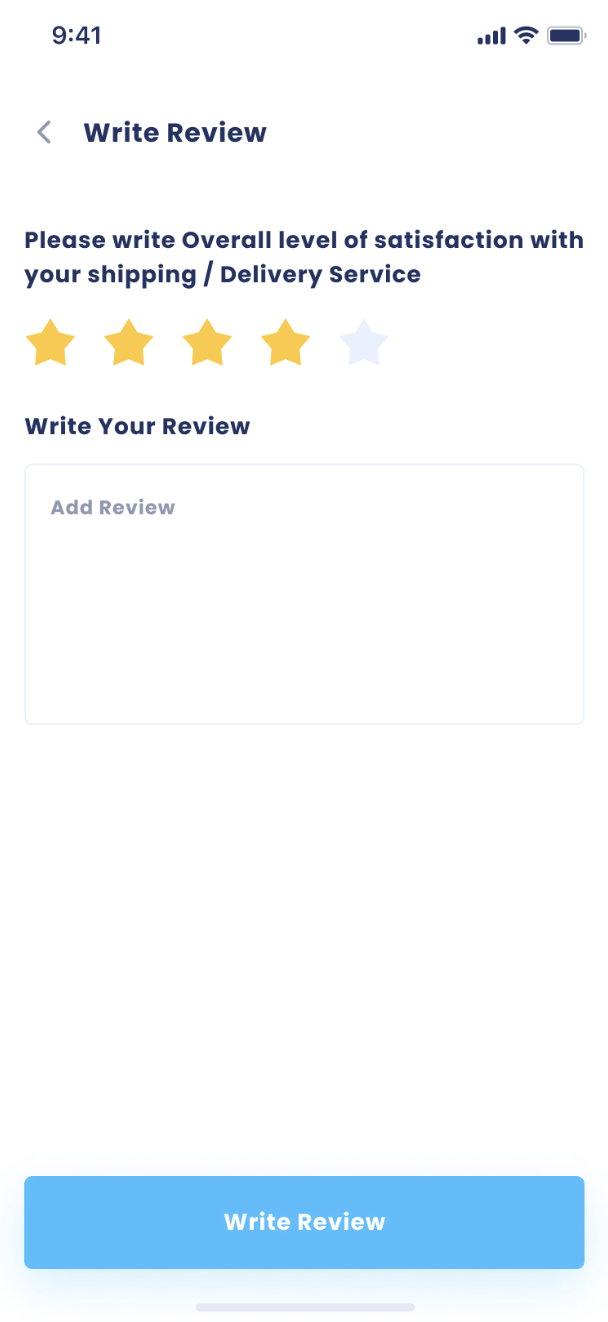Button: (21, 1171, 586, 1271)
